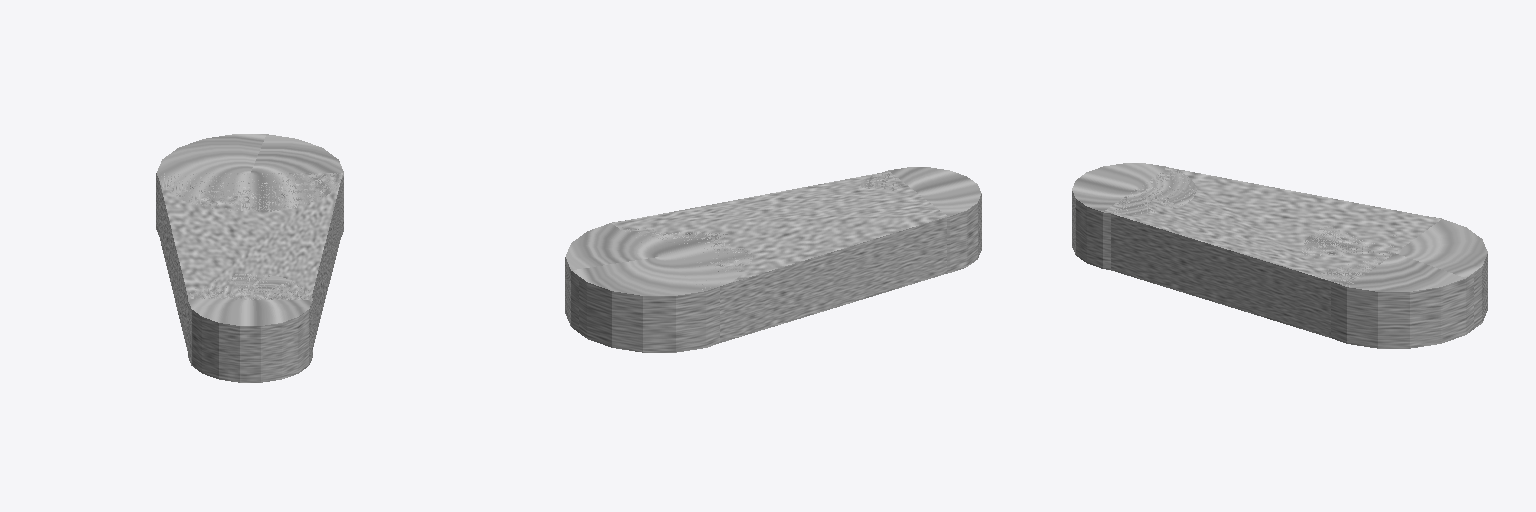
3 views of the same model, side by side, from view 1: azimuth 30°, elevation 25°; view 2: azimuth 150°, elevation 25°; view 3: azimuth 270°, elevation 25° (orthographic).
Visible parts, largest first — view 1: Box007, Cylinder002, Cylinder001; view 2: Box007, Cylinder001, Cylinder002; view 3: Box007, Cylinder001, Cylinder002.
Part boxes in pixels (x1,y1,x2,y2): Box007: (159,173,342,350); Cylinder002: (188,274,312,382); Cylinder001: (156,134,343,236); Box007: (612,172,947,342); Cylinder001: (565,220,752,352); Cylinder002: (859,167,981,273); Box007: (1104,167,1440,337); Cylinder001: (1301,216,1487,348); Cylinder002: (1072,163,1196,269).
Size of the model in its own units: 9.71 by 2 by 13.28.
Materials: 1 (1 with a texture image).